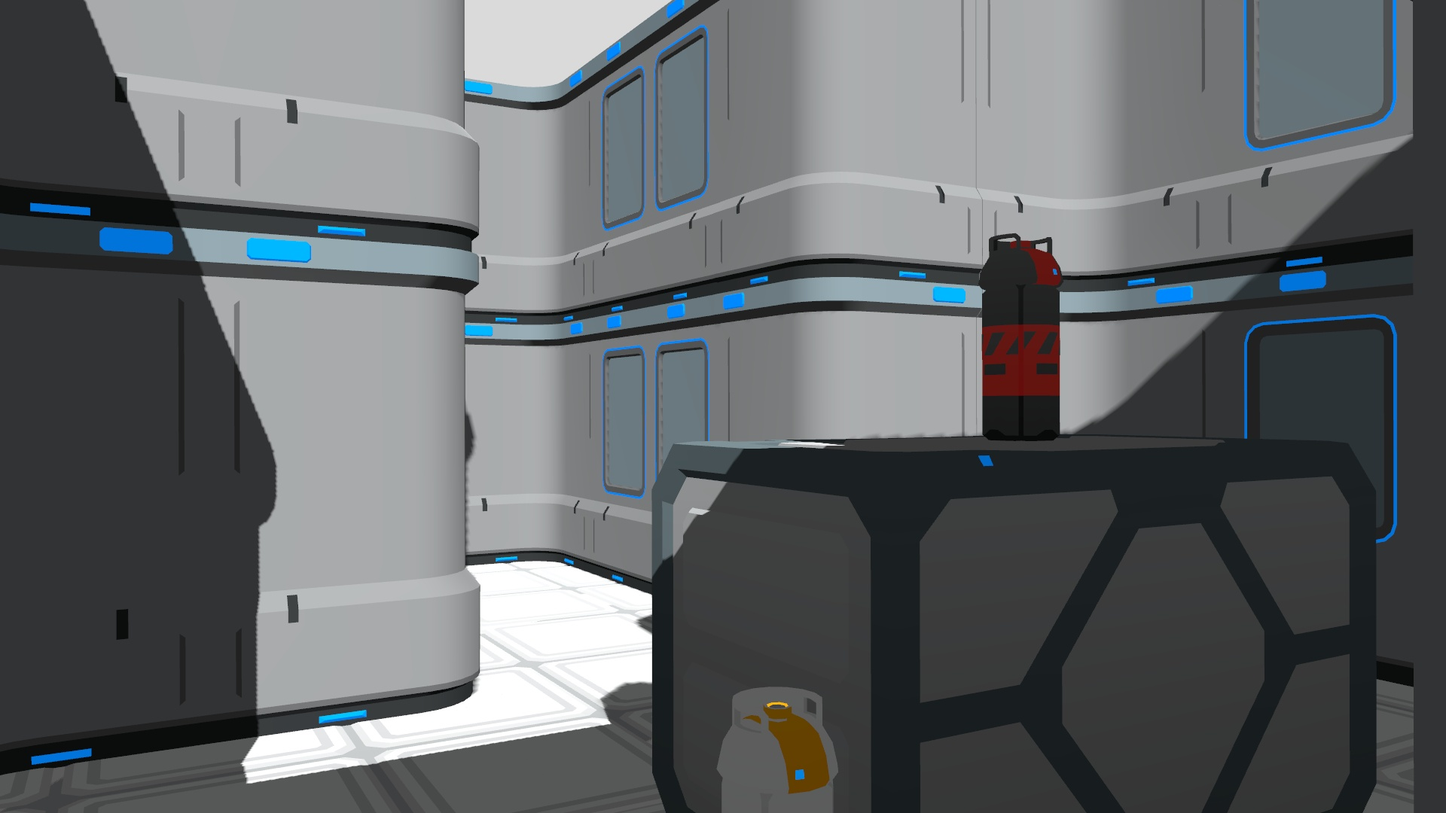red_barrel: (975, 228, 1065, 447)
yellow_barrel: (709, 684, 845, 813)
